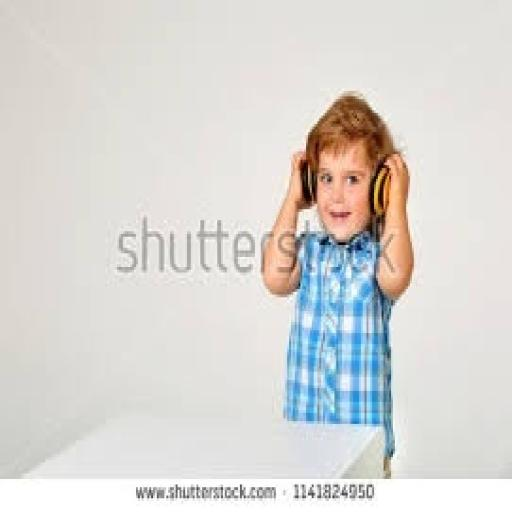listening_to_music: (258, 88, 416, 476)
